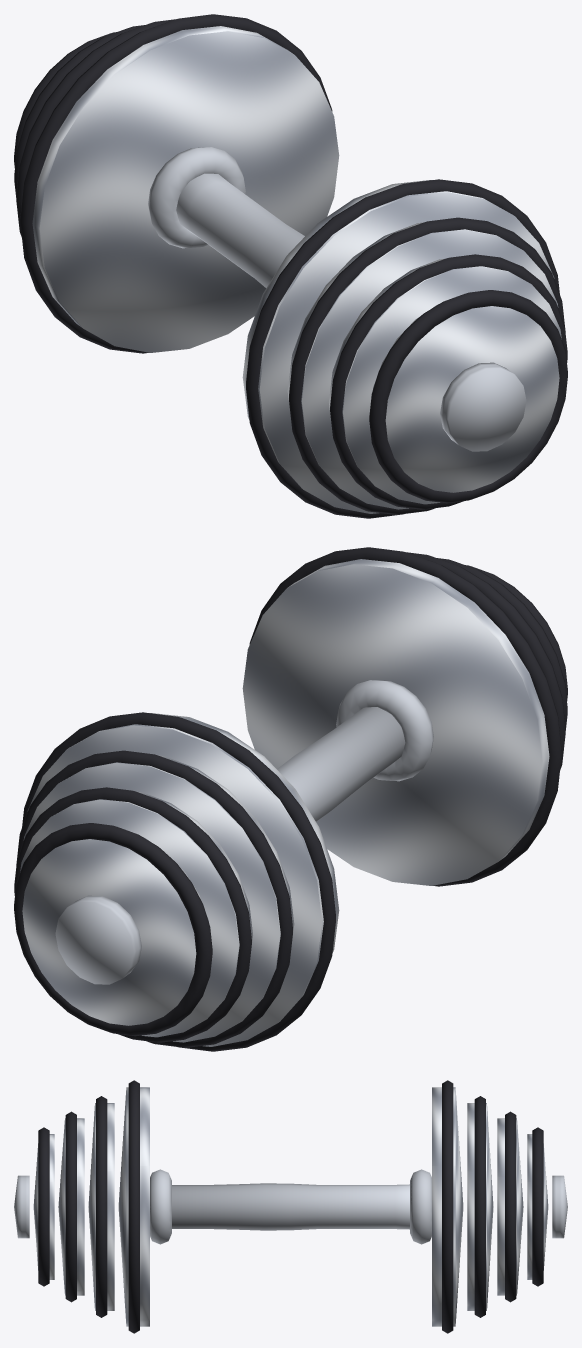
The model's file is ChromeDumbbell.glb.
The picture shows the model from 3 angles, top to bottom: view 1: azimuth 30°, elevation 25°; view 2: azimuth 150°, elevation 25°; view 3: azimuth 270°, elevation 25°; orthographic projection. The views are drawn at different scales.
Parts seen in each view (by area): view 1: ChromeDumbbell; view 2: ChromeDumbbell; view 3: ChromeDumbbell.
Boxes of the visible parts, x1,y1,x2,y2 form: ChromeDumbbell: [14, 14, 567, 518]; ChromeDumbbell: [14, 547, 567, 1051]; ChromeDumbbell: [14, 1080, 567, 1333].
Bounding box in the file's own units: 0.97 × 0.97 × 2.12.
1 material, 1 textured.
